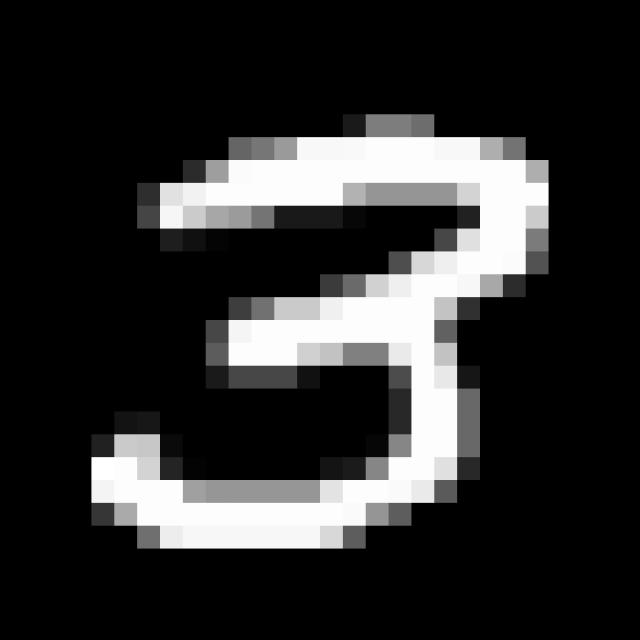three -3-: (73, 112, 565, 562)
